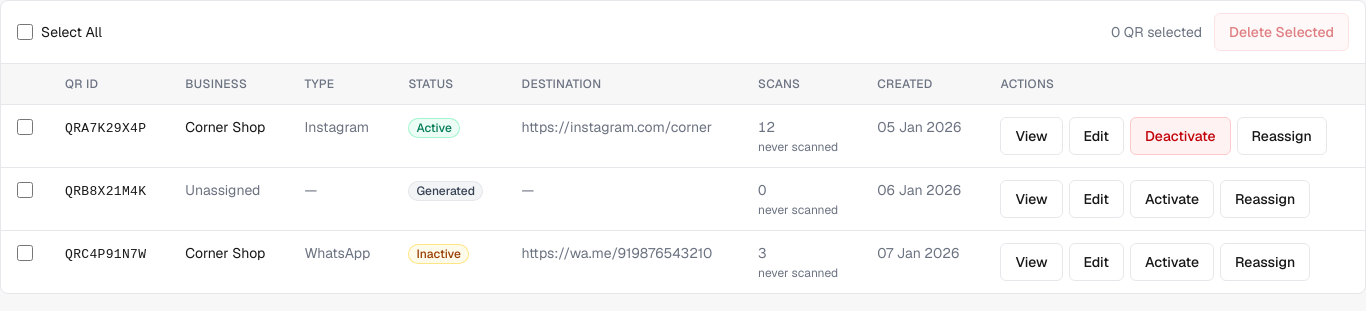
Test: selecting QR codes › selects and clears every row on the page
Click the checkbox named "Select all QR codes on this page". click: [25, 32]
box: x1=17 y1=24 x2=33 y2=40
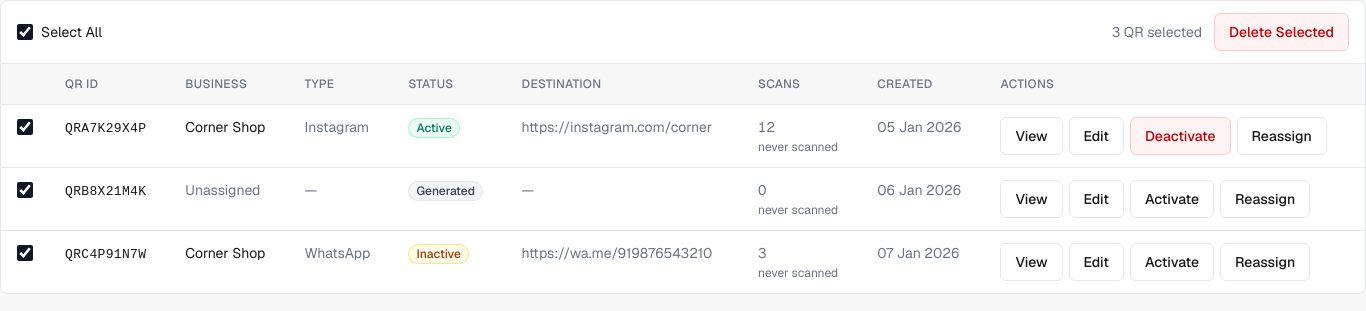
Expected: the checkbox named "Select all QR codes on this page" is checked
Expected: the text "3 QR selected" is shown, x1=1112 y1=22 x2=1202 y2=42
Expected: the checkbox named "Select QRB8X21M4K" is checked, x1=17 y1=182 x2=33 y2=198
Click the checkbox named "Select all QR codes on this page". click: [25, 32]
box: x1=17 y1=24 x2=33 y2=40
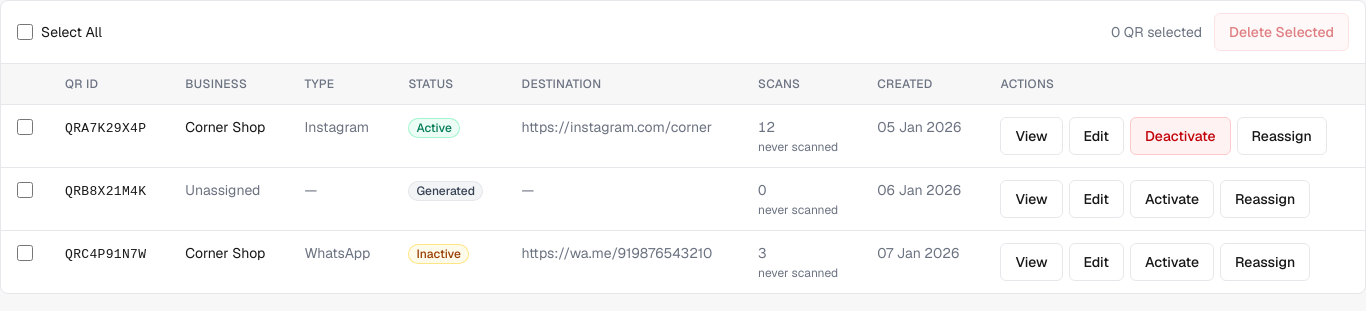
Expected: the checkbox named "Select all QR codes on this page" is not checked, x1=17 y1=24 x2=33 y2=40
Expected: the text "0 QR selected" is shown, x1=1111 y1=22 x2=1202 y2=42
